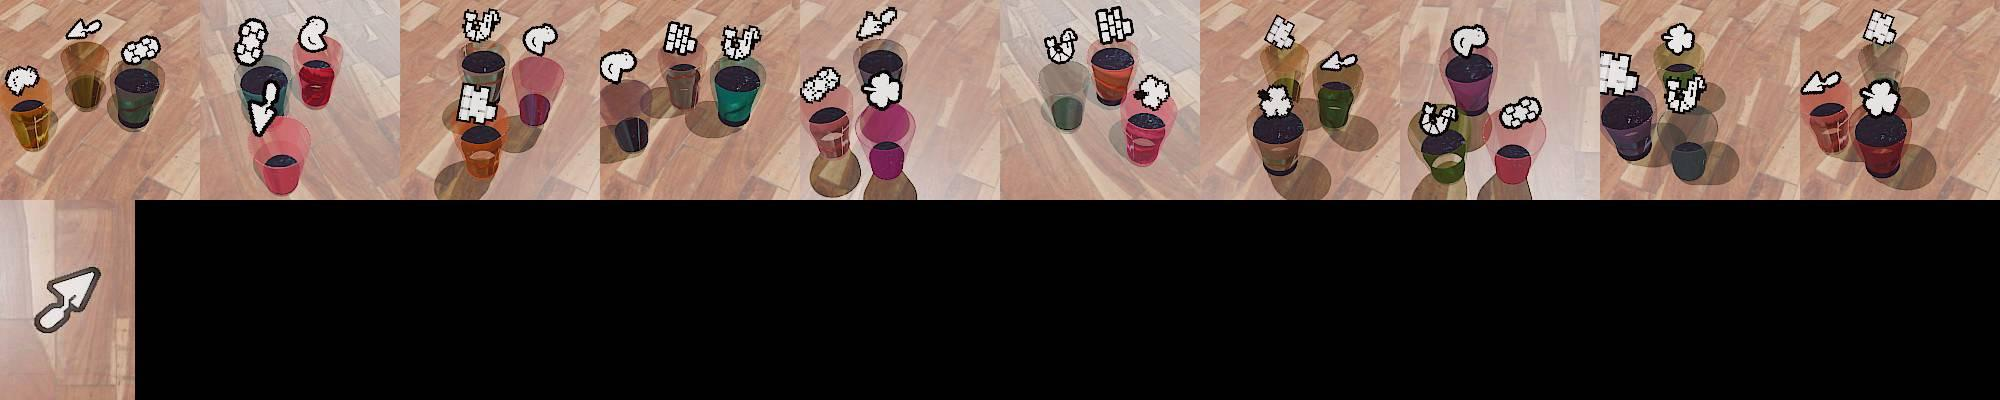icon: (33, 266, 105, 332), (247, 80, 282, 140), (457, 82, 501, 125), (1598, 50, 1639, 96), (1665, 74, 1707, 115), (1858, 78, 1902, 117), (233, 18, 268, 66), (719, 23, 763, 61), (861, 71, 903, 110), (1133, 73, 1172, 112), (1094, 5, 1134, 45), (798, 66, 841, 103), (855, 6, 898, 42), (1497, 96, 1541, 130), (661, 20, 699, 57), (462, 8, 500, 45), (599, 48, 638, 85), (1418, 99, 1458, 135), (1258, 82, 1293, 120), (1043, 27, 1078, 65), (1862, 10, 1898, 46), (1452, 24, 1489, 59), (522, 23, 559, 57), (297, 14, 329, 52), (1661, 22, 1696, 55), (1265, 14, 1297, 51), (121, 36, 161, 65), (4, 65, 41, 96), (1800, 69, 1841, 96), (65, 18, 103, 41), (1318, 50, 1357, 71)
